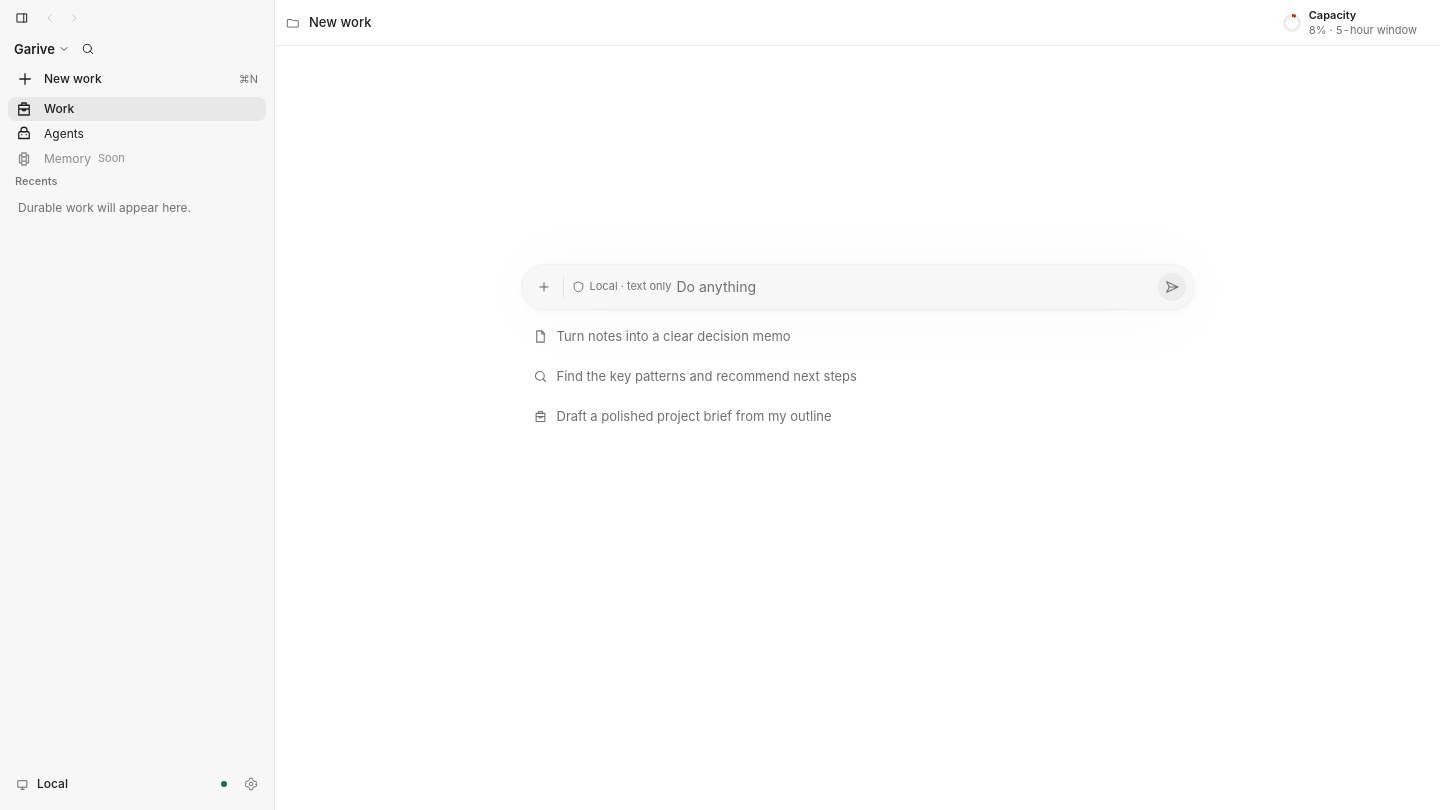
Test: Desktop product experience › opens one truthful usage view without changing durable task state
Click the button with aria-label "Capacity: 8% · 5-hour window" at {"x": 1350, "y": 22}, box [1274, 6, 1426, 40]
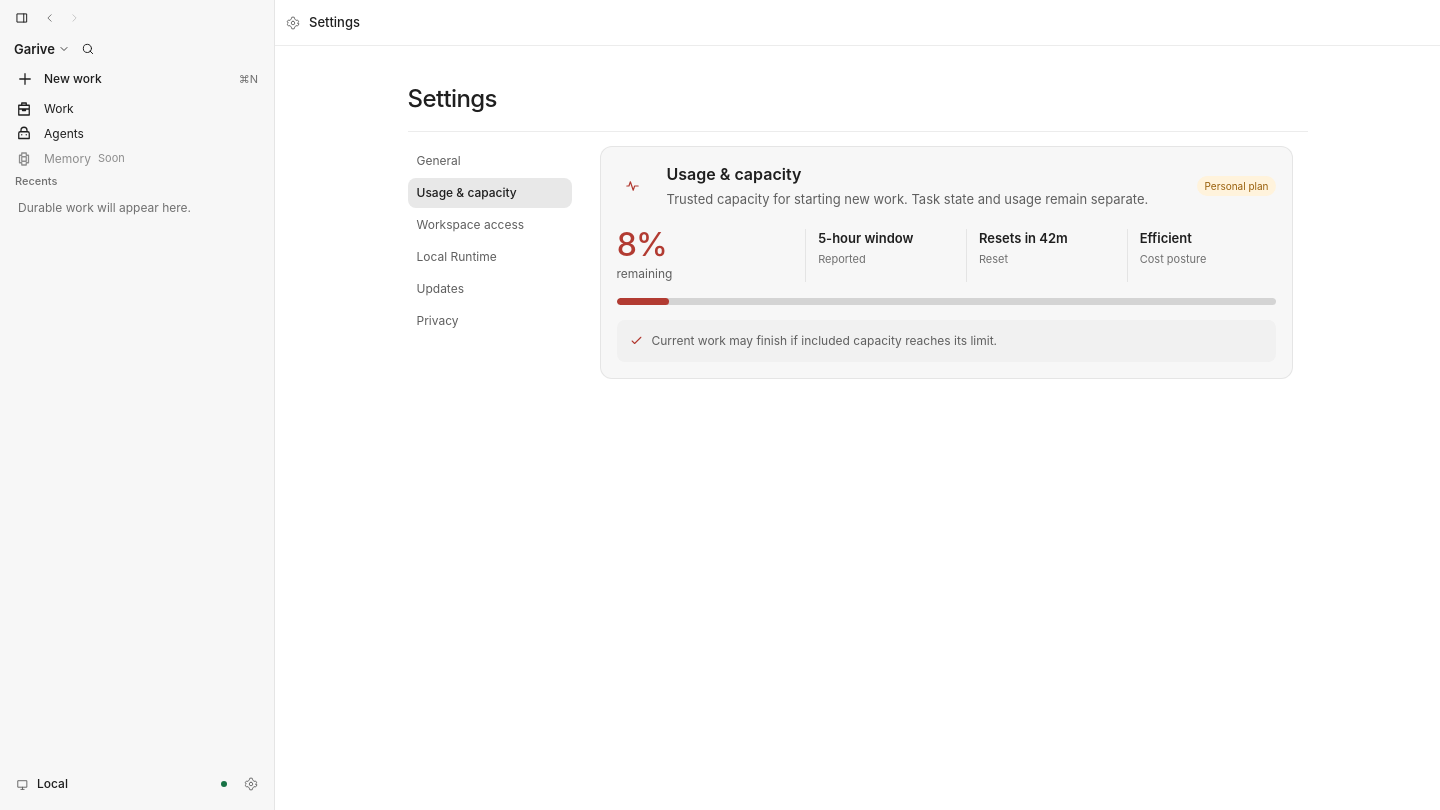
Result: the heading "Usage & capacity" is shown at [666, 164, 801, 184]
Result: the progress indicator named "8% remaining" is shown at [616, 298, 1276, 305]
Result: the text "Current work may finish if included capacity reaches its limit." is shown at [652, 332, 997, 349]
Click the button "Local Runtime" at {"x": 490, "y": 257}, box [408, 242, 572, 272]
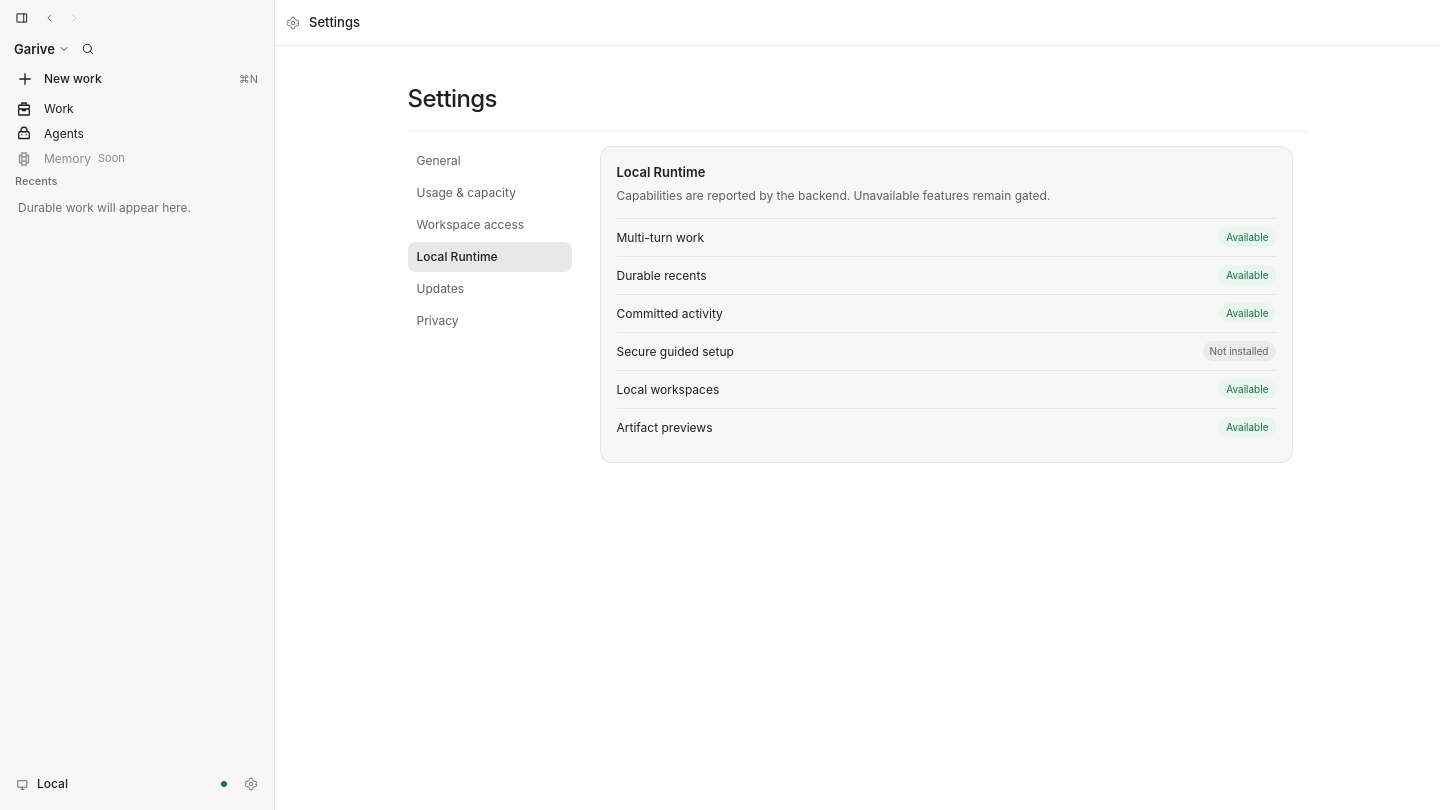
Result: the heading "Local Runtime" is shown at [616, 164, 705, 180]
